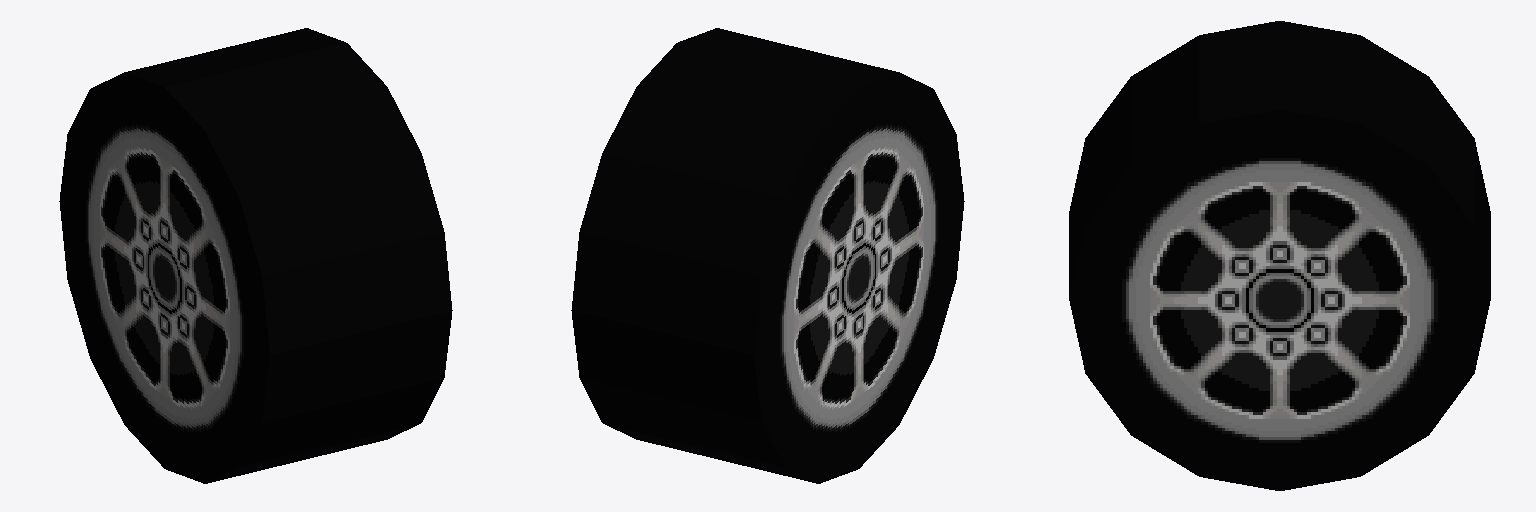
The picture shows the model from 3 angles: view 1: azimuth 30°, elevation 25°; view 2: azimuth 150°, elevation 25°; view 3: azimuth 270°, elevation 25°; orthographic projection.
Parts seen in each view (by area): view 1: Plane_Plane.001; view 2: Plane_Plane.001; view 3: Plane_Plane.001.
Part boxes in pixels (left/top/right/bottom): Plane_Plane.001: left=59, top=28, right=452, bottom=483; Plane_Plane.001: left=571, top=28, right=964, bottom=483; Plane_Plane.001: left=1069, top=21, right=1490, bottom=490.
Size of the model in its own units: 0.32 by 0.64 by 0.64.
Materials: 1 (1 with a texture image).